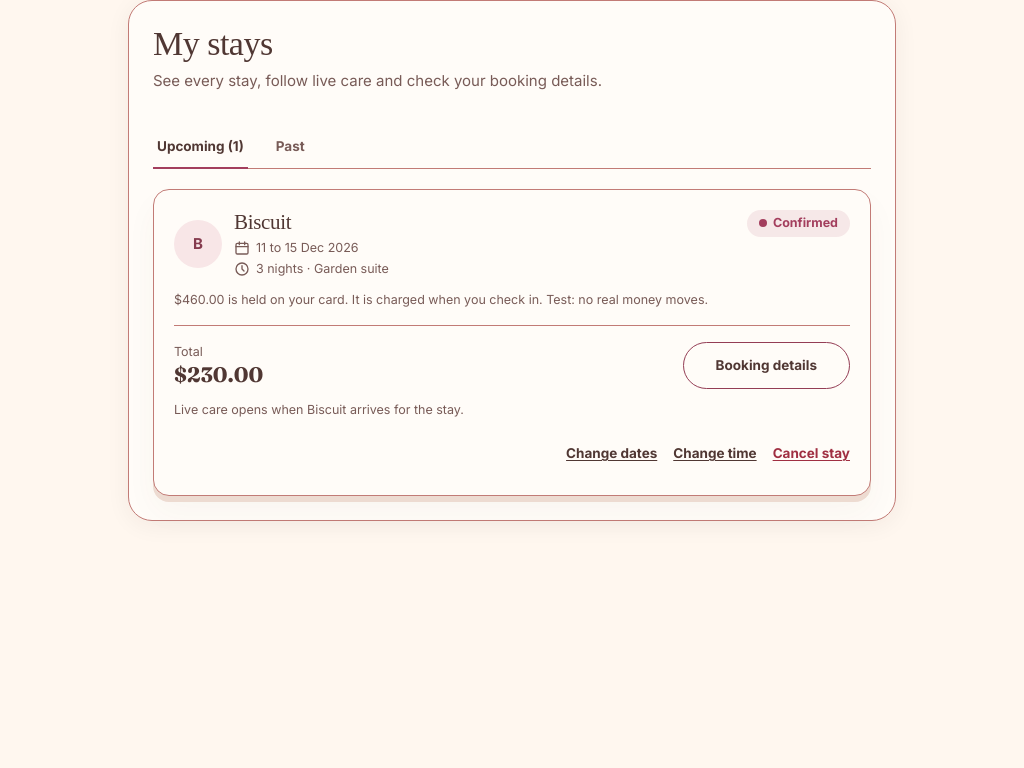
My Stays with a saved card › charges nothing and shows the new fee when it moved while the dialog was open
Click the button "Cancel stay": (811, 453) [773,431,850,475]
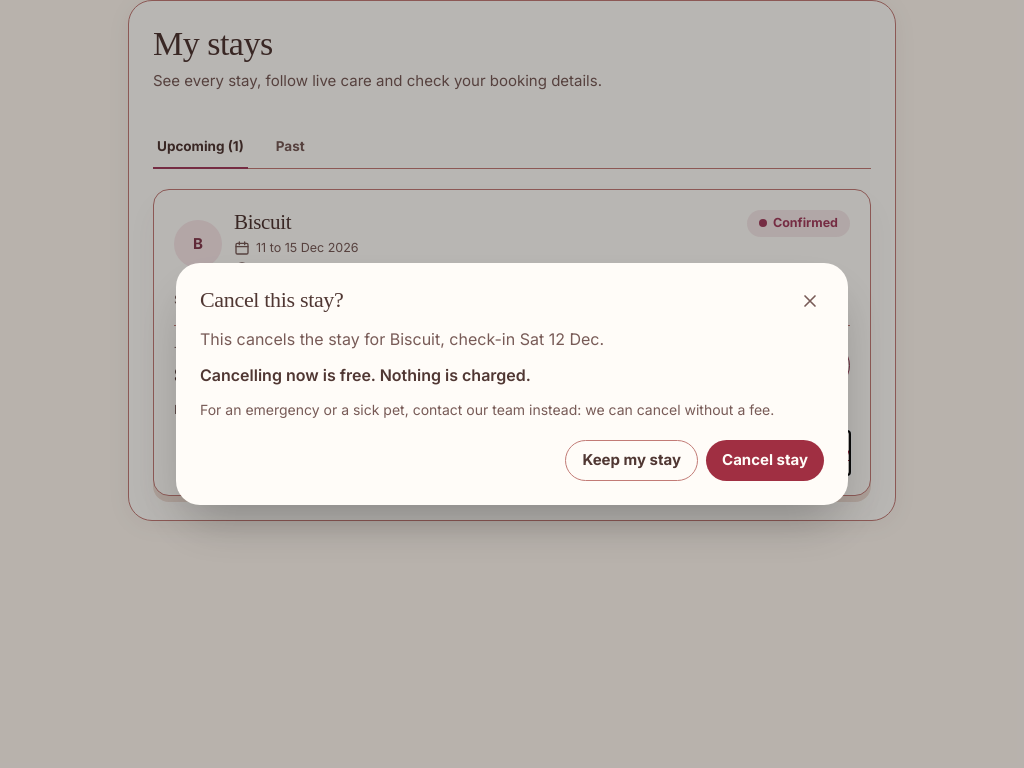
expect the text "Cancelling now is free. Nothing is charged." is shown: met, box [200,365,531,385]
Click the button "Cancel stay": (765, 461) [706,440,824,481]
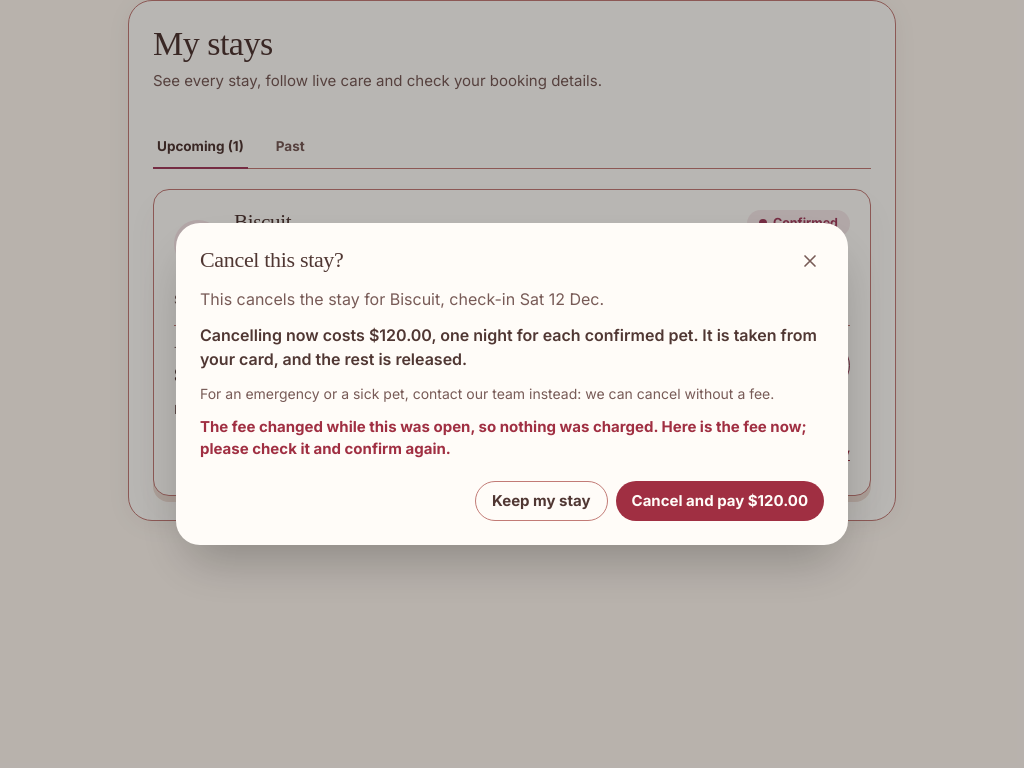
expect the button "Cancel and pay $120.00" is enabled: met, box [616,481,824,521]
expect the message shows "The fee changed while this was open, so nothing was charged.": met, box [200,417,806,458]
